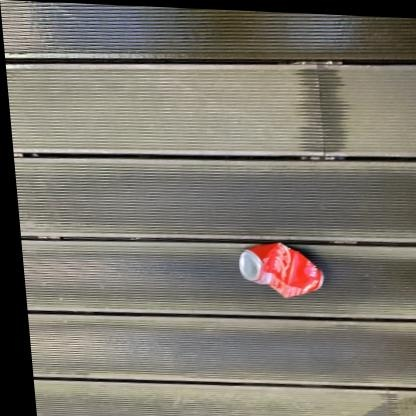trash: (239, 243, 323, 297)
